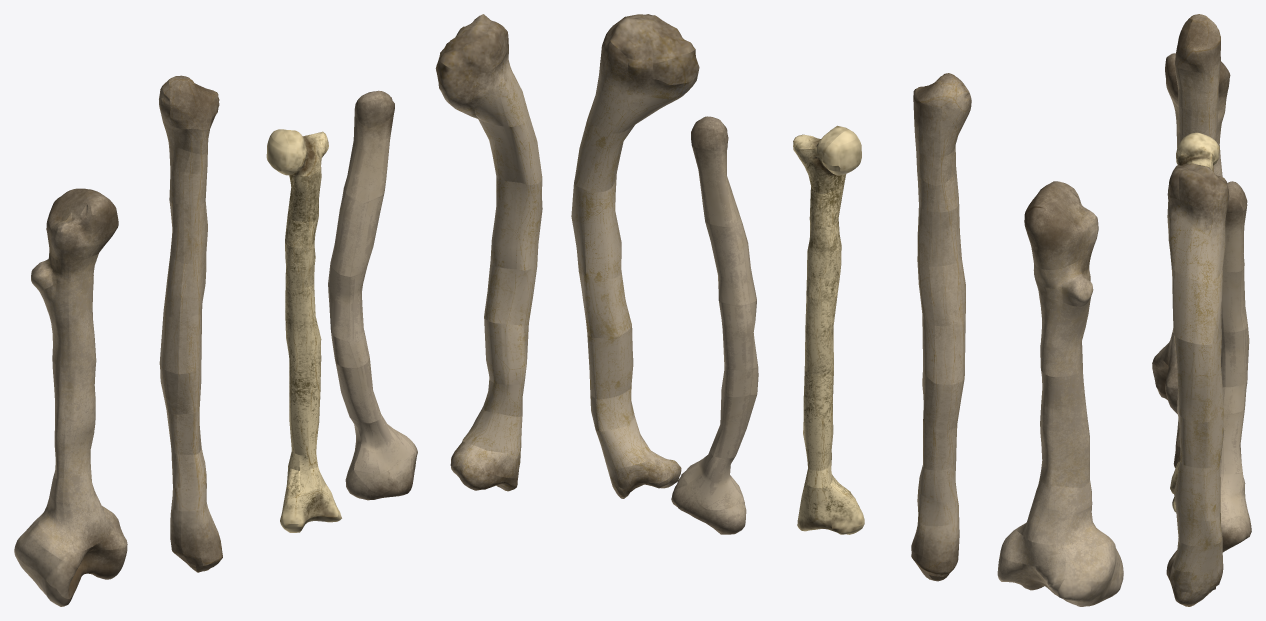
Rendered from bones.glb.
3 renders of one model, left to right at view 1: azimuth 30°, elevation 25°; view 2: azimuth 150°, elevation 25°; view 3: azimuth 270°, elevation 25°, orthographic. The views are drawn at different scales.
Visible parts, largest first — view 1: polySurface4, polySurface3, polySurface2, polySurface5, polySurface1; view 2: polySurface4, polySurface3, polySurface2, polySurface5, polySurface1; view 3: polySurface4, polySurface5, polySurface2, polySurface3, polySurface1.
Boxes of the visible parts, x1=… form: polySurface4: x1=435, y1=14, x2=542, y2=491; polySurface3: x1=14, y1=188, x2=127, y2=606; polySurface2: x1=159, y1=75, x2=222, y2=572; polySurface5: x1=328, y1=90, x2=417, y2=500; polySurface1: x1=266, y1=129, x2=341, y2=532; polySurface4: x1=571, y1=14, x2=699, y2=498; polySurface3: x1=997, y1=181, x2=1123, y2=606; polySurface2: x1=911, y1=73, x2=971, y2=581; polySurface5: x1=671, y1=116, x2=758, y2=534; polySurface1: x1=793, y1=125, x2=864, y2=534; polySurface4: x1=1166, y1=163, x2=1229, y2=606; polySurface5: x1=1220, y1=181, x2=1251, y2=552; polySurface2: x1=1173, y1=14, x2=1220, y2=467; polySurface3: x1=1152, y1=53, x2=1230, y2=413; polySurface1: x1=1170, y1=132, x2=1219, y2=512.
Bounding box in the file's own units: 68.34 × 62.15 × 12.43.
5 materials, 5 textured.
